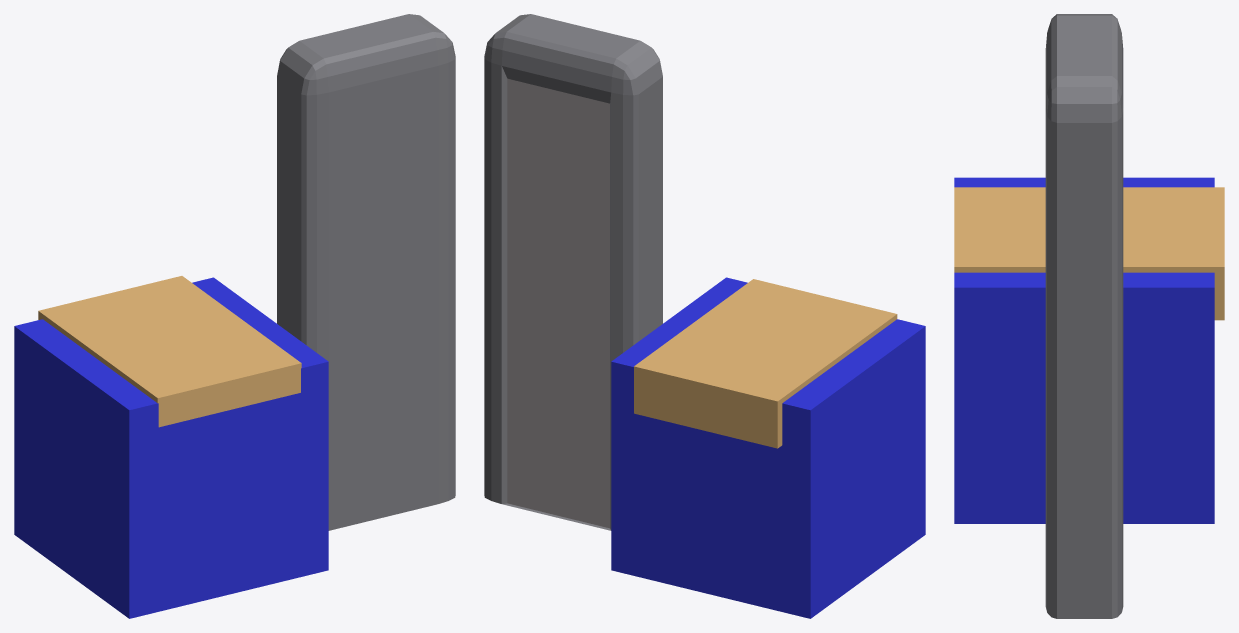
File: Requirements.fbx
3 views of the same model, side by side, from view 1: azimuth 30°, elevation 25°; view 2: azimuth 150°, elevation 25°; view 3: azimuth 270°, elevation 25° (orthographic). The views are drawn at different scales.
Visible parts, largest first — view 1: tablet, chest, kapak; view 2: tablet, chest, kapak; view 3: chest, tablet, kapak.
Boxes of the visible parts, box(x1,y1,x2,y2) form: tablet: box(277, 14, 455, 530); chest: box(14, 277, 328, 618); kapak: box(38, 276, 301, 427); tablet: box(484, 14, 662, 530); chest: box(611, 277, 925, 618); kapak: box(634, 279, 897, 448); chest: box(954, 177, 1214, 523); tablet: box(1045, 14, 1123, 618); kapak: box(954, 187, 1224, 320).
Size of the model in its own units: 186 by 225 by 104.
